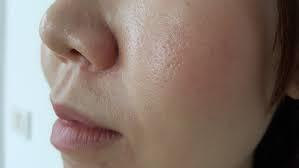Oily-Skin: (125, 10, 243, 118), (39, 1, 87, 47)
